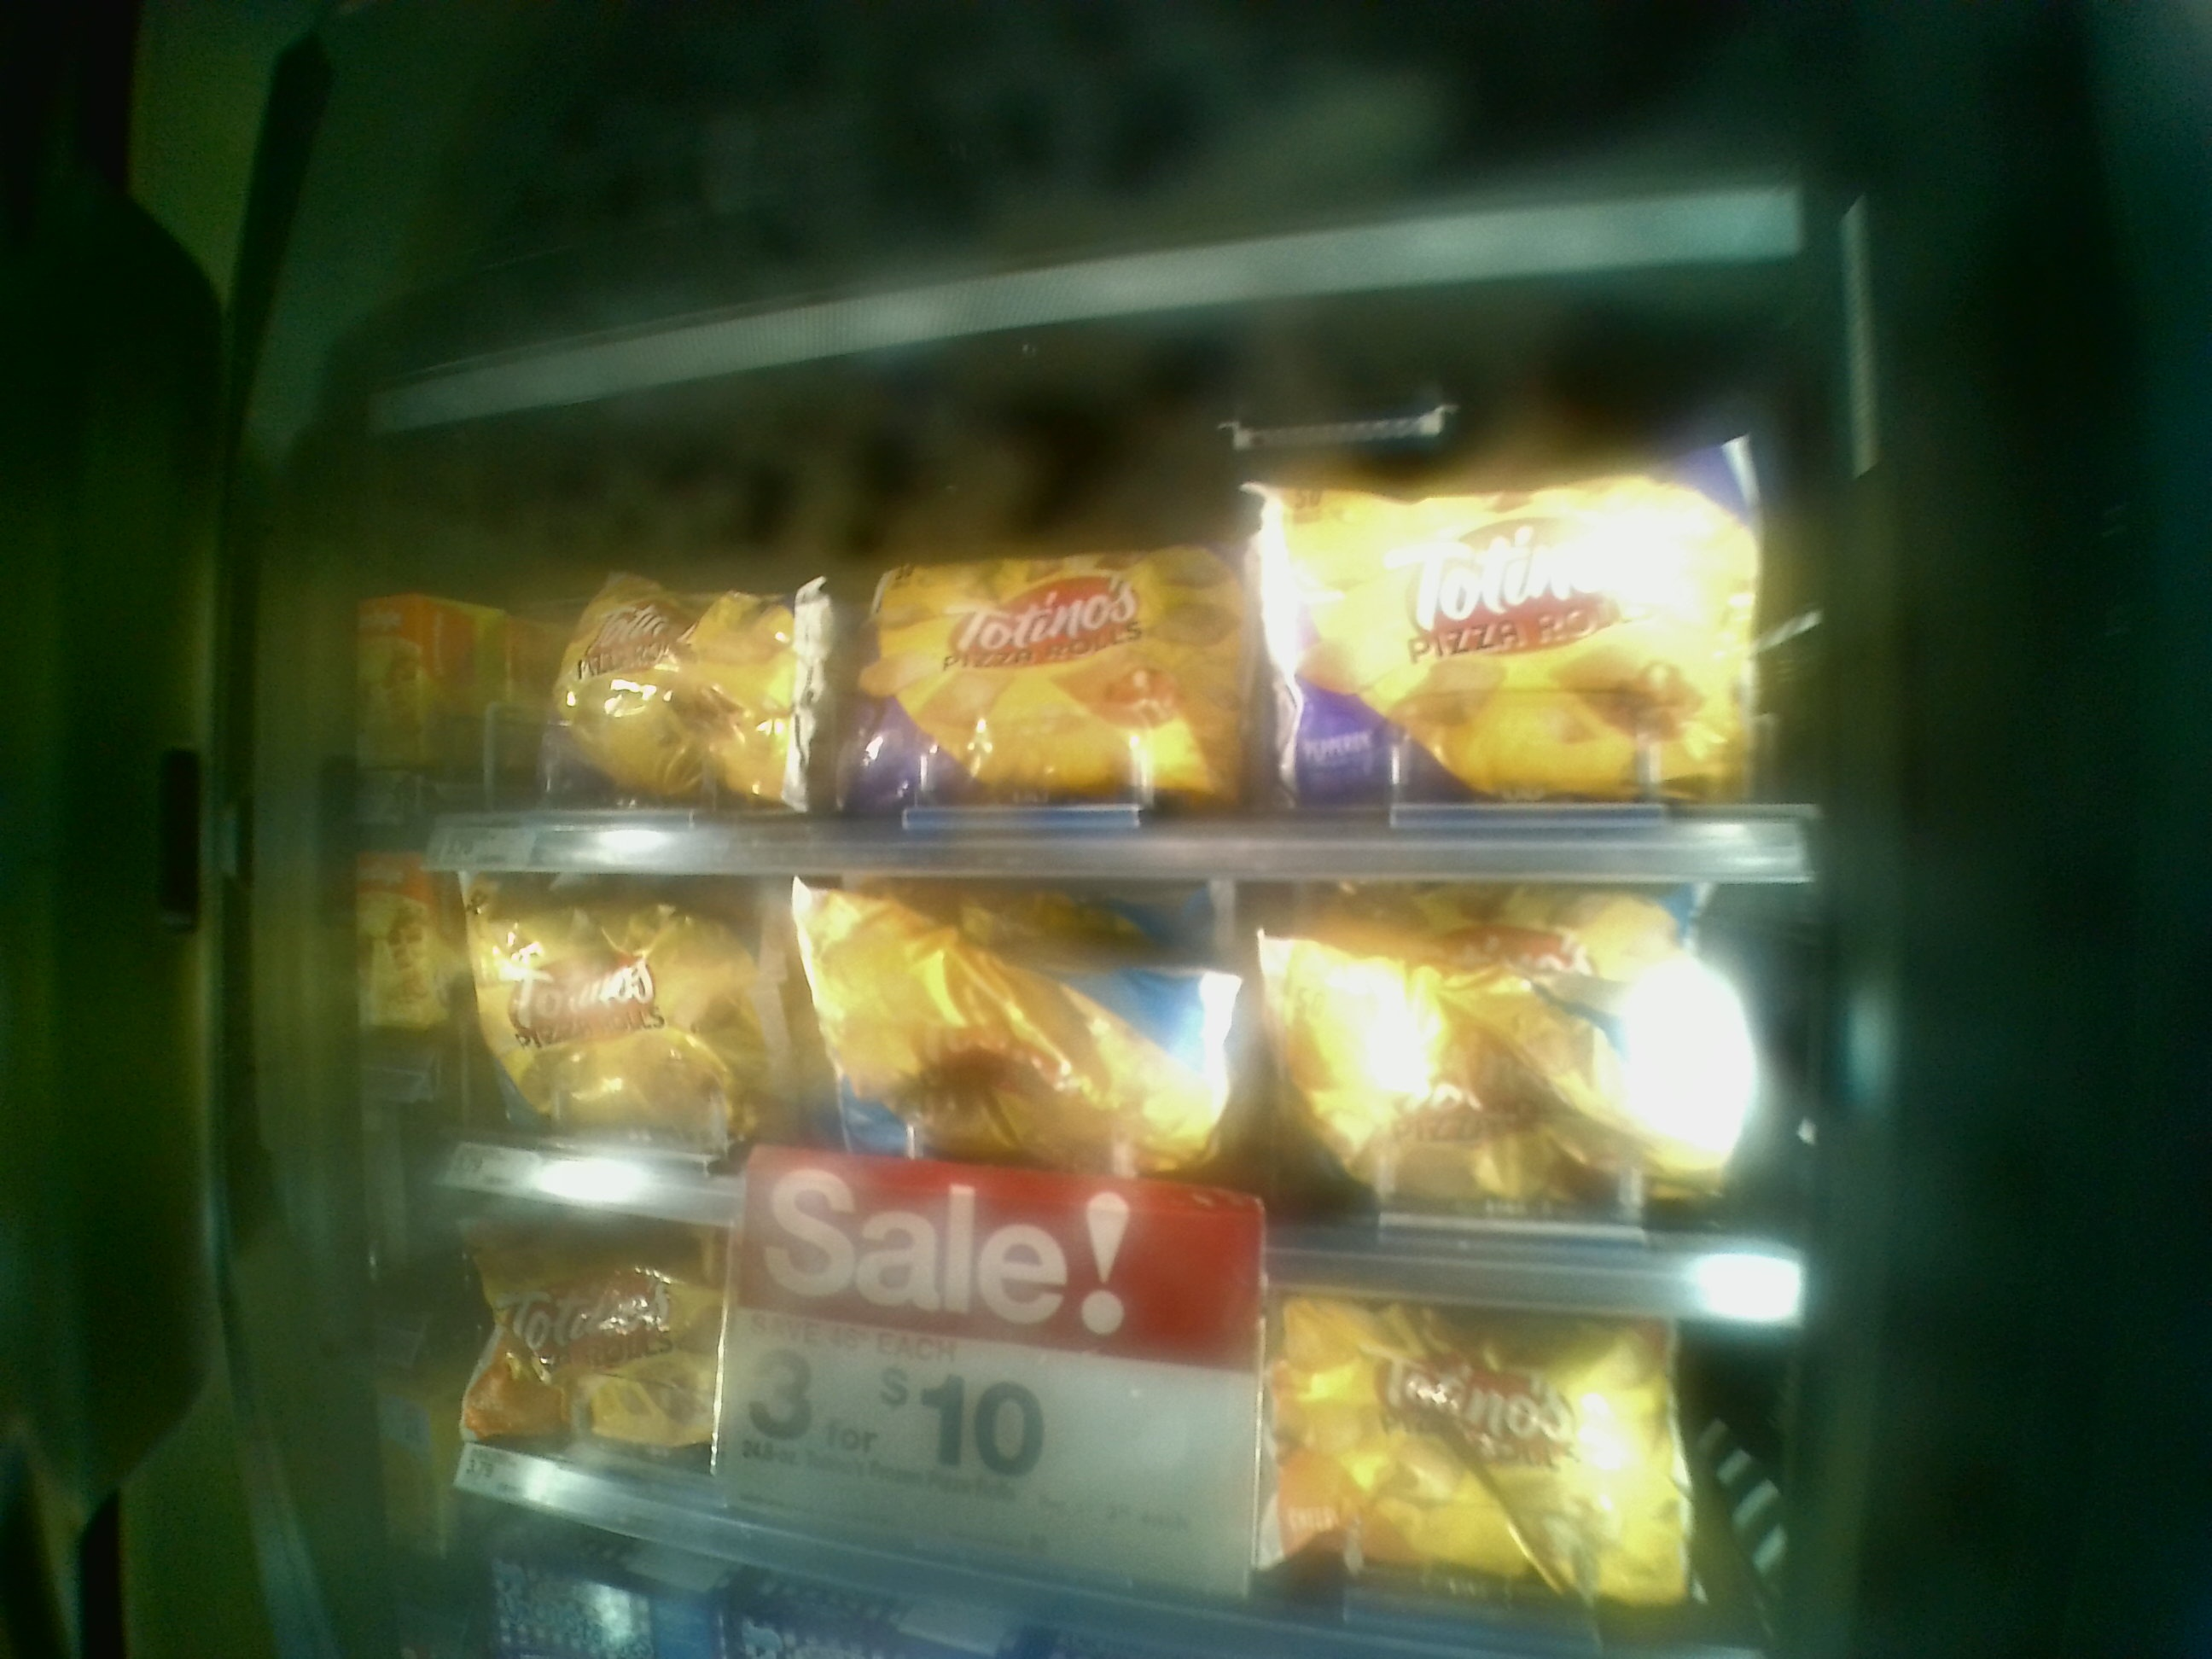shelf: (423, 863, 1806, 1317)
